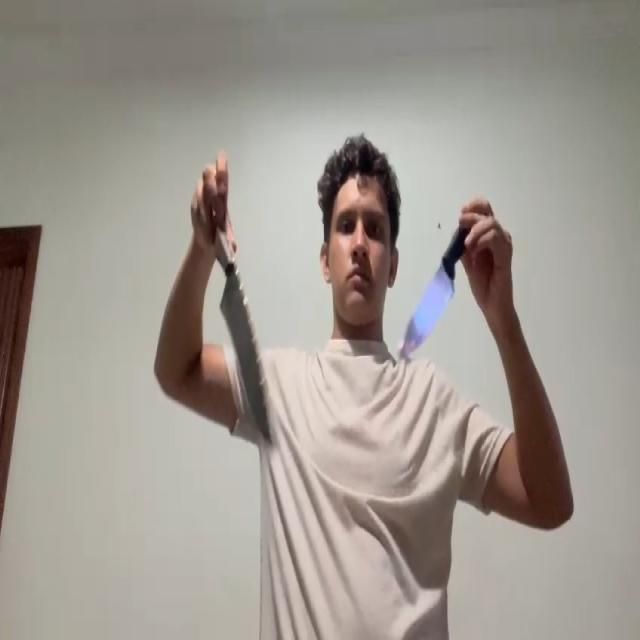knife: (220, 262, 272, 434), (399, 261, 458, 362)
